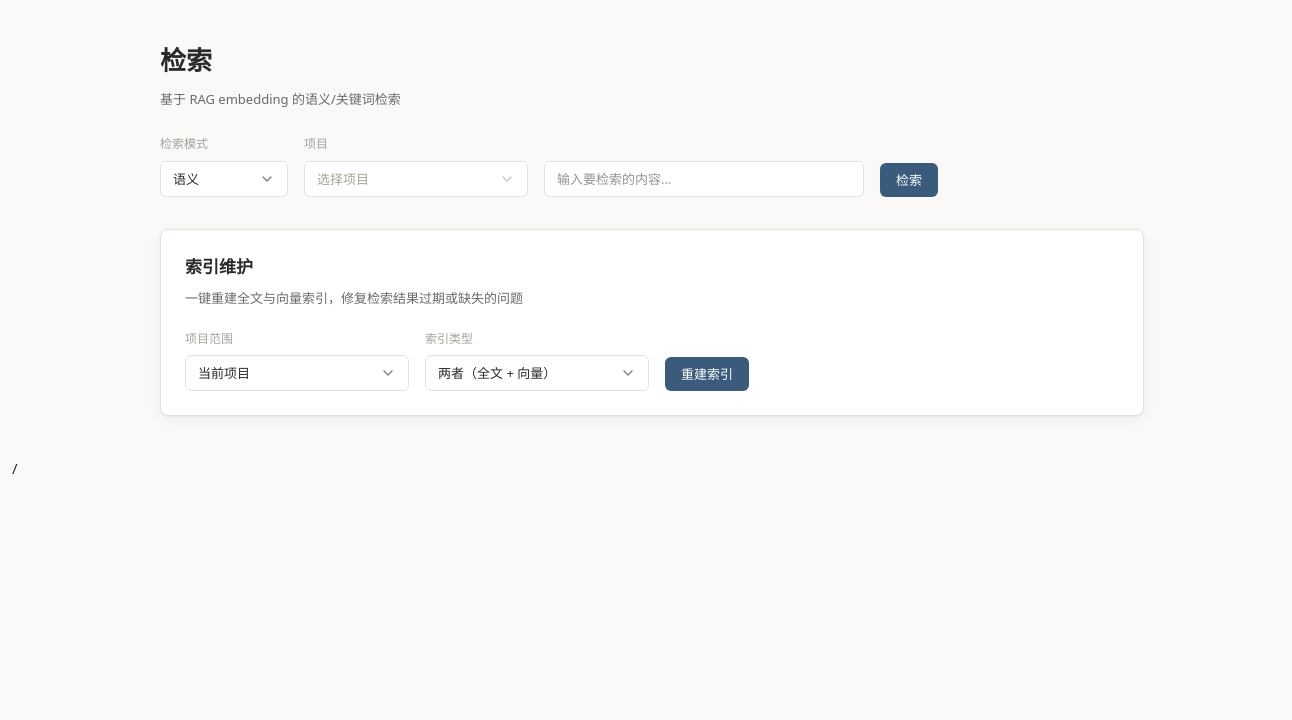
检索页 — 检索交互（#480） › 输入 q + 选择项目 + 点检索 → fetchSearch(q/projectId/mode=semantic) → 命中渲染
This screenshot has width=1292, height=720.
Step 1. Type "青云" into the field labelled "输入要检索的内容…" → (704, 179), box [544,161,864,197]
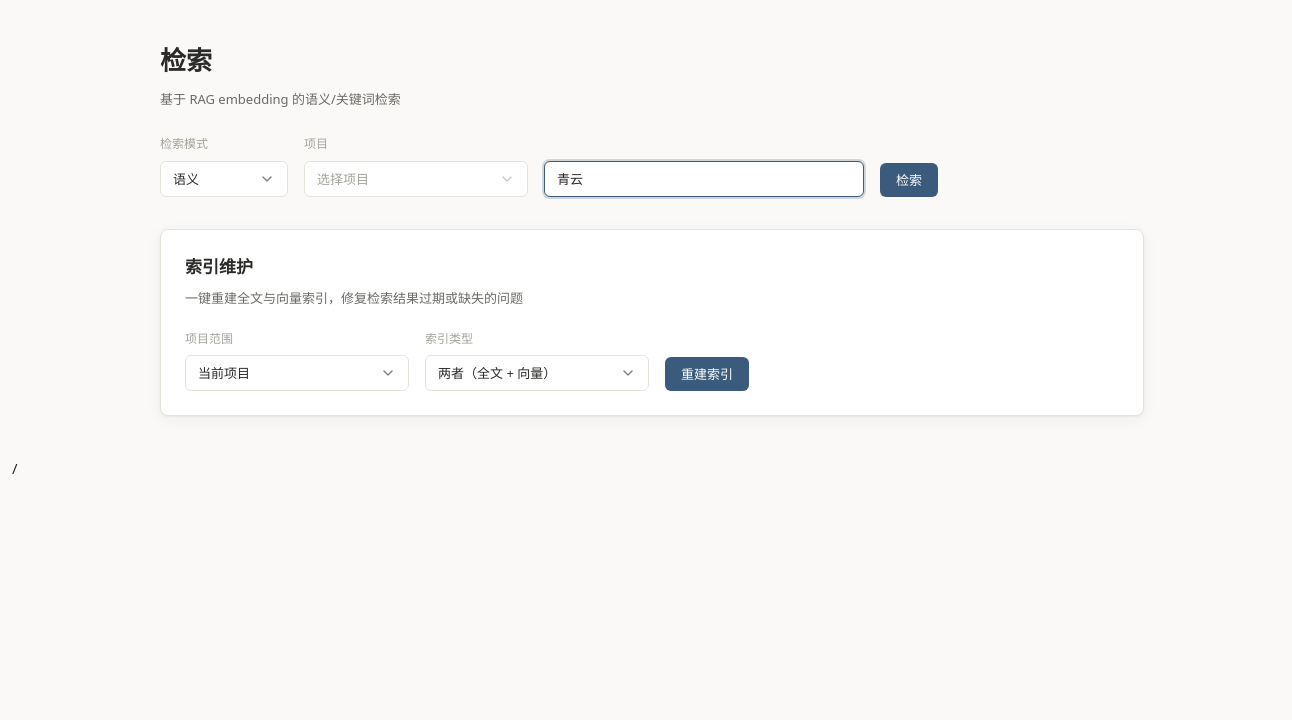
Step 2. Click the dropdown with test id "search-project-select" → (416, 179), box [304,161,528,197]
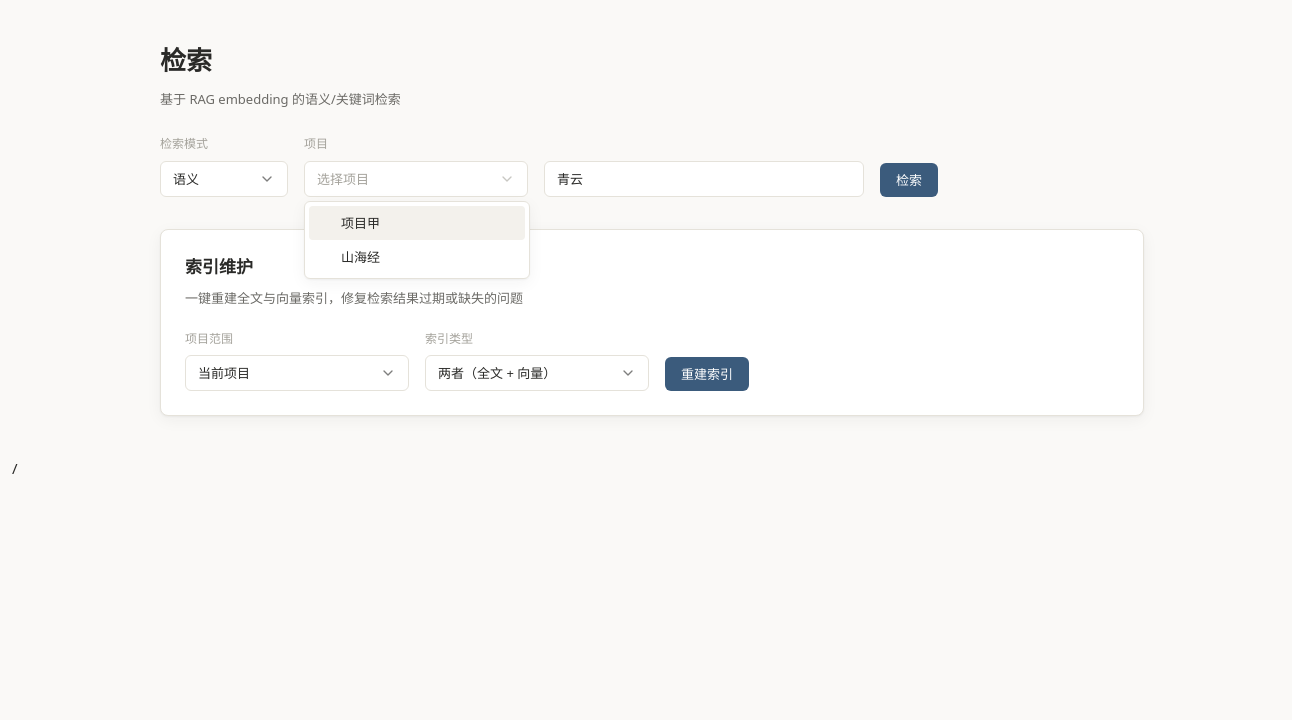
Step 3. Click the option "项目甲" → (417, 223), box [309,206,525,240]
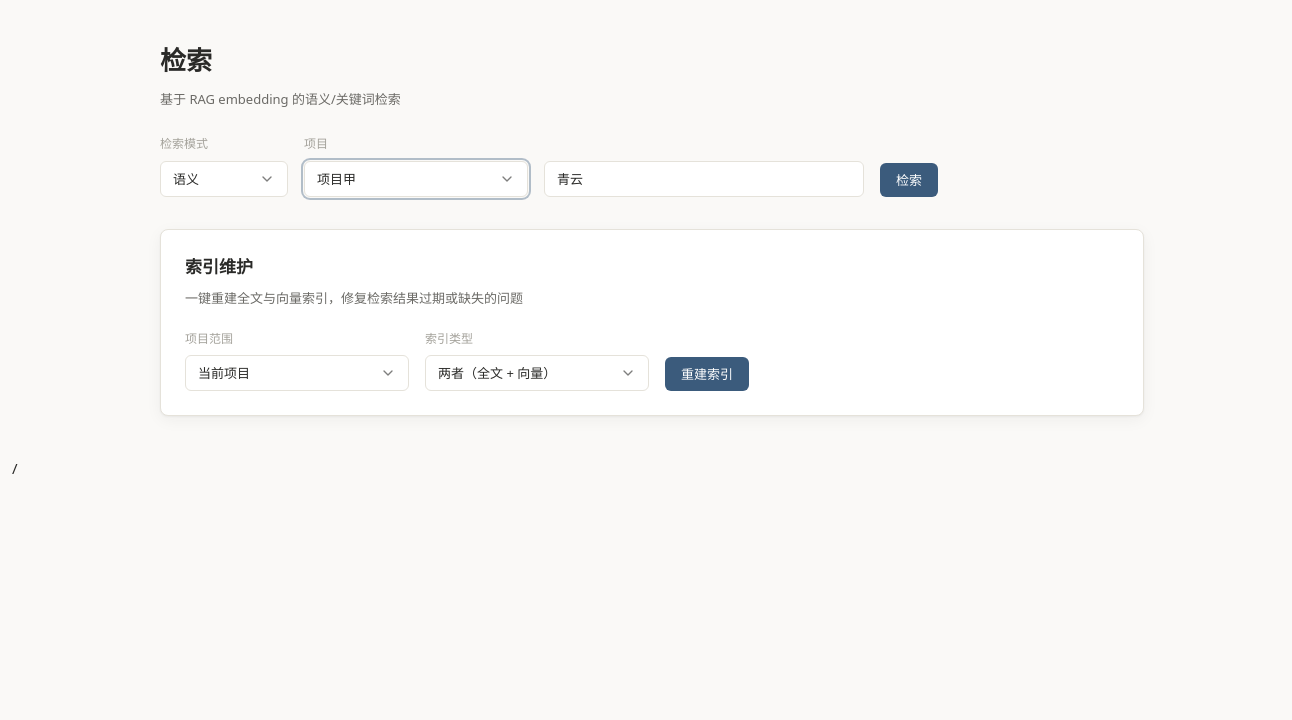
Step 4. Click the button "检索" → (909, 180), box [880,163,938,197]
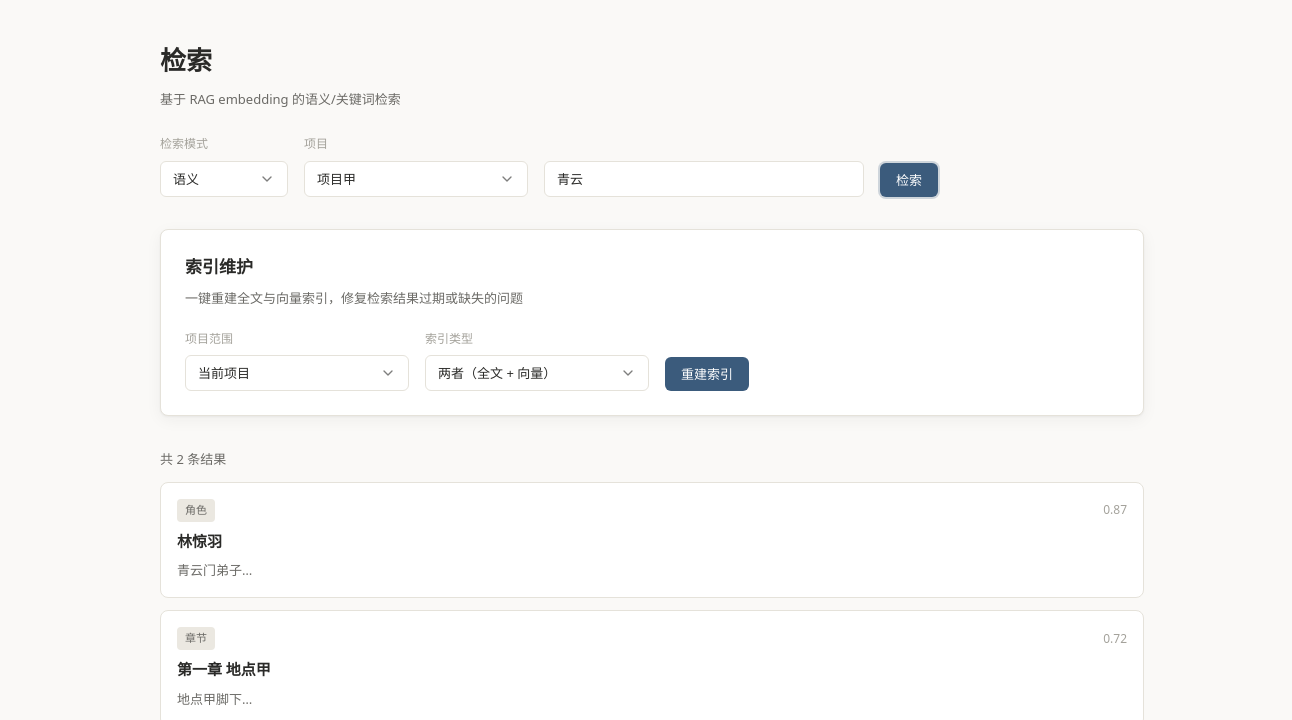
Check: the heading "林惊羽" is shown, box [177,534,222,550]
Check: the text "青云门弟子…" is shown, box [177,561,252,579]
Check: the list item with test id "search-hit" reads "角色 0.87 林惊羽 青云门弟子…", box [185,502,207,517]
